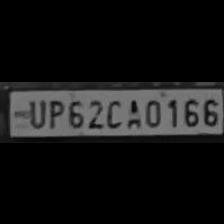0: (142, 95, 164, 127)
1: (164, 95, 180, 127)
2: (84, 96, 104, 128)
6: (64, 96, 84, 128), (180, 95, 200, 127), (199, 94, 219, 125)
C: (103, 94, 123, 128)
P: (45, 96, 63, 128)
U: (25, 96, 45, 127)
